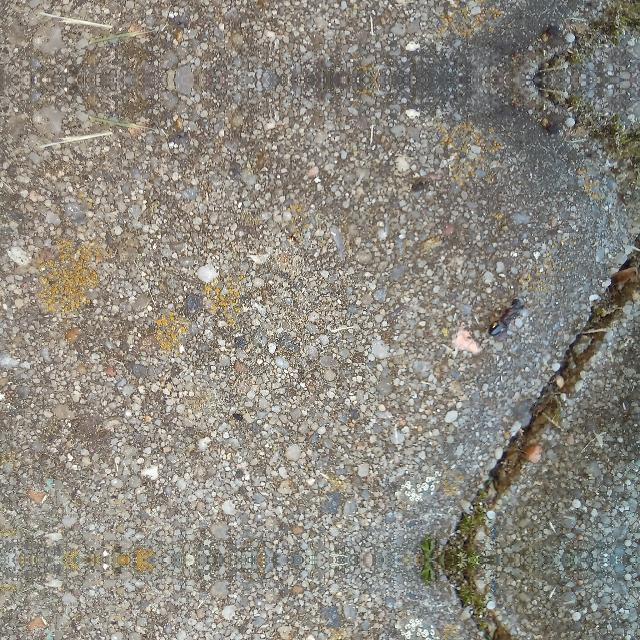Dolichoderus: (474, 286, 536, 342)
